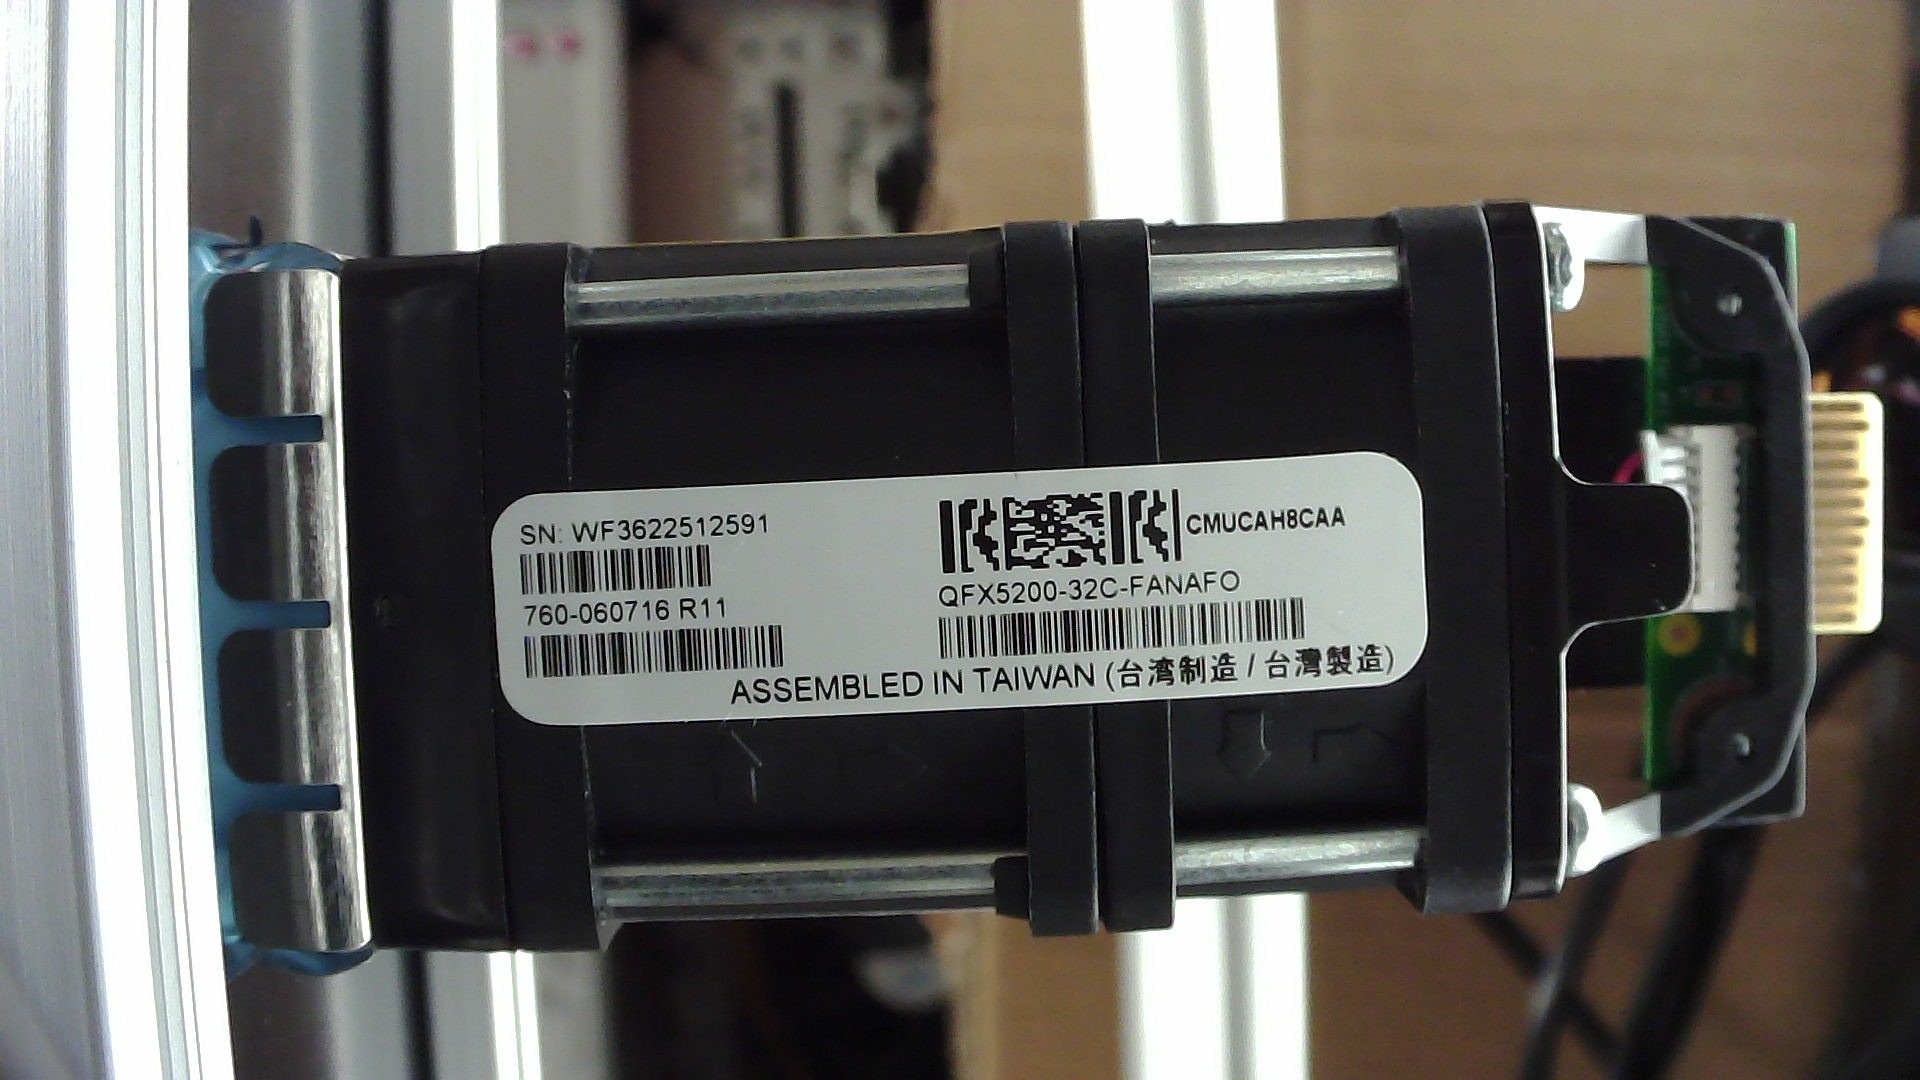6_2: (1665, 429, 1727, 618)
